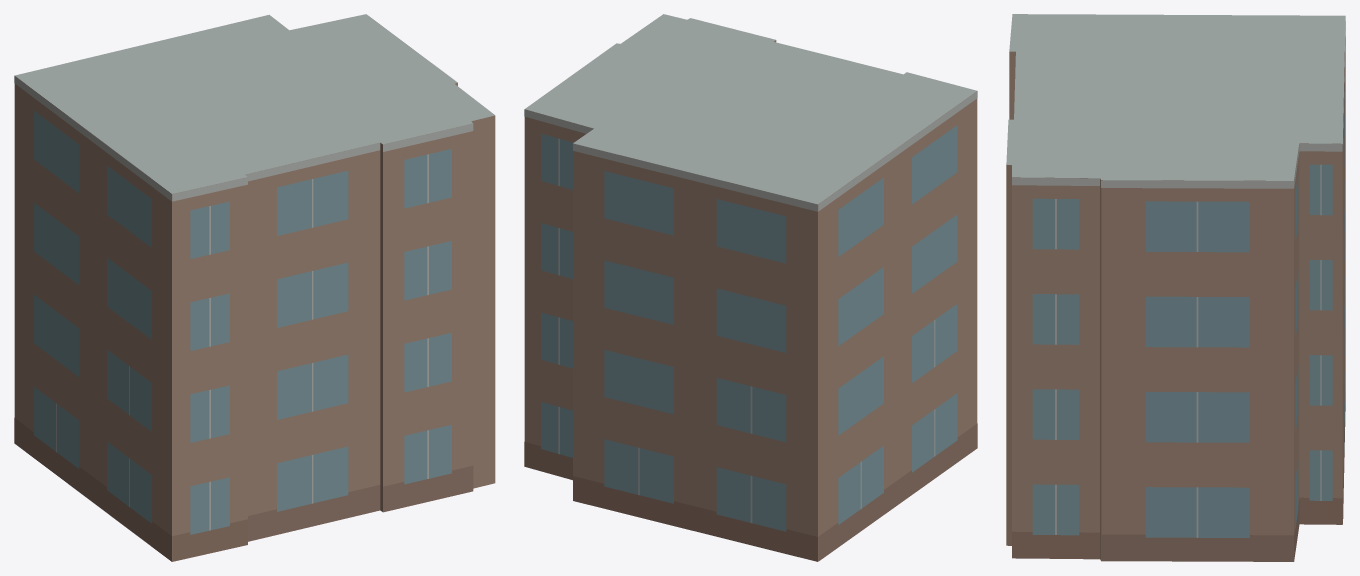
File: survey-upis-32746854.glb
3 renders of one model, left to right at view 1: azimuth 30°, elevation 25°; view 2: azimuth 150°, elevation 25°; view 3: azimuth 270°, elevation 25°, orthographic. The views are drawn at different scales.
Visible parts, largest first — view 1: survey-upis-32746854.tmp; view 2: survey-upis-32746854.tmp; view 3: survey-upis-32746854.tmp.
Part boxes in pixels (left/top/right/bottom): survey-upis-32746854.tmp: left=14, top=14, right=495, bottom=561; survey-upis-32746854.tmp: left=524, top=14, right=977, bottom=561; survey-upis-32746854.tmp: left=1006, top=14, right=1345, bottom=561.
Size of the model in its own units: 11.1 by 11.8 by 9.53.
